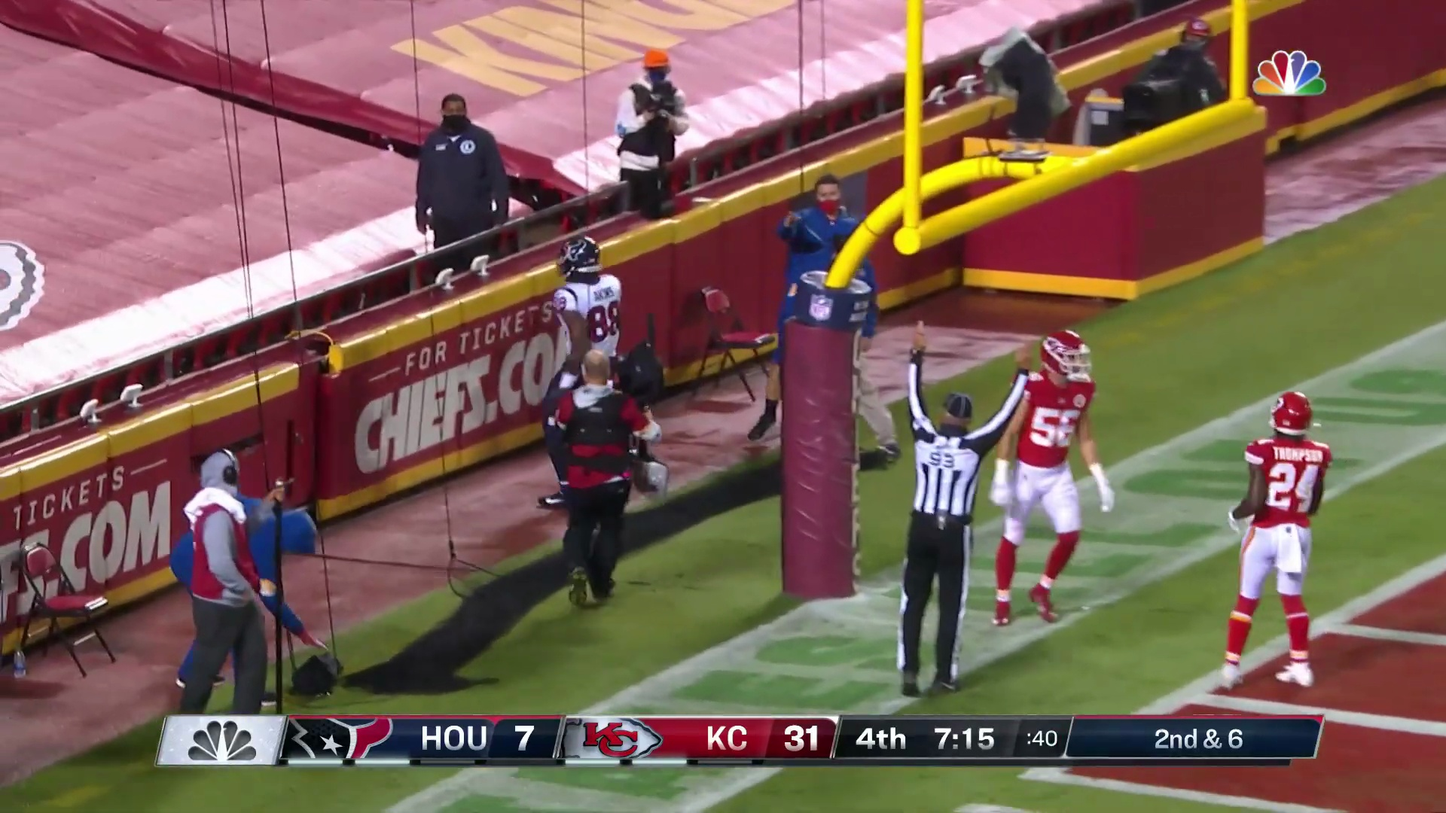Player: (1220, 386, 1330, 685), (992, 324, 1093, 627), (544, 230, 625, 470)
